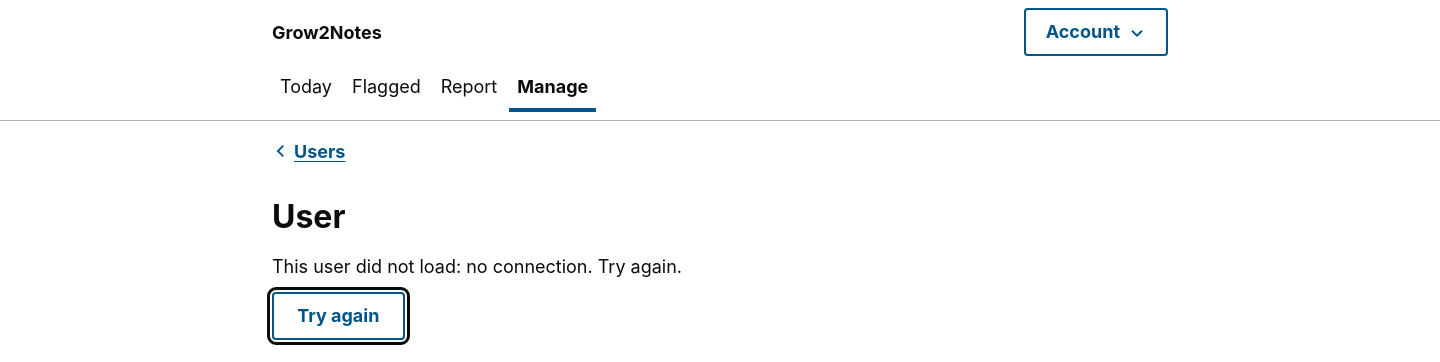
Test: User while the list loads › says the user still did not load after a Try again that fails, with focus still on Try again
The width and height of the screenshot is (1440, 362).
Click the button "Try again". click: (338, 316)
box: [272,292,405,340]
Wait 1001 ms
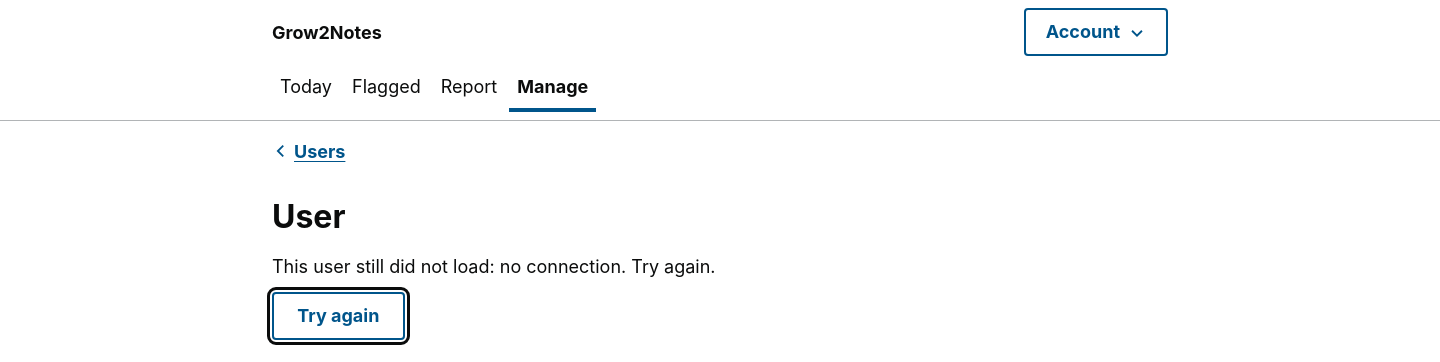
Now the message reads "This user still did not load: no connection. Try again.", box [272,256,716,277]
